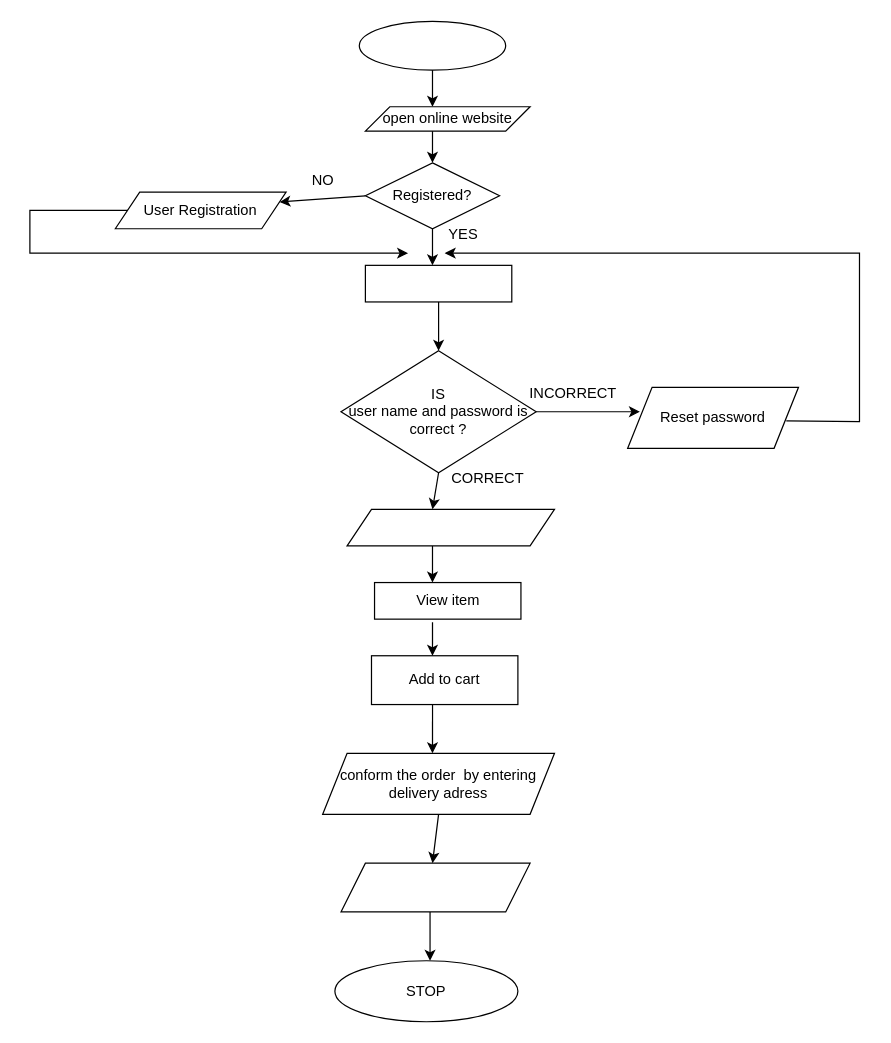
Image size: 891x1043. Some labels were removed from this diagram. The shapes that lost their labels are listed below. From the top down, each one's centre as x and y in pixels, then its label:
point 432,45: START
point 438,283: LOGIN
point 450,527: search item
point 435,887: Order is confirmed
